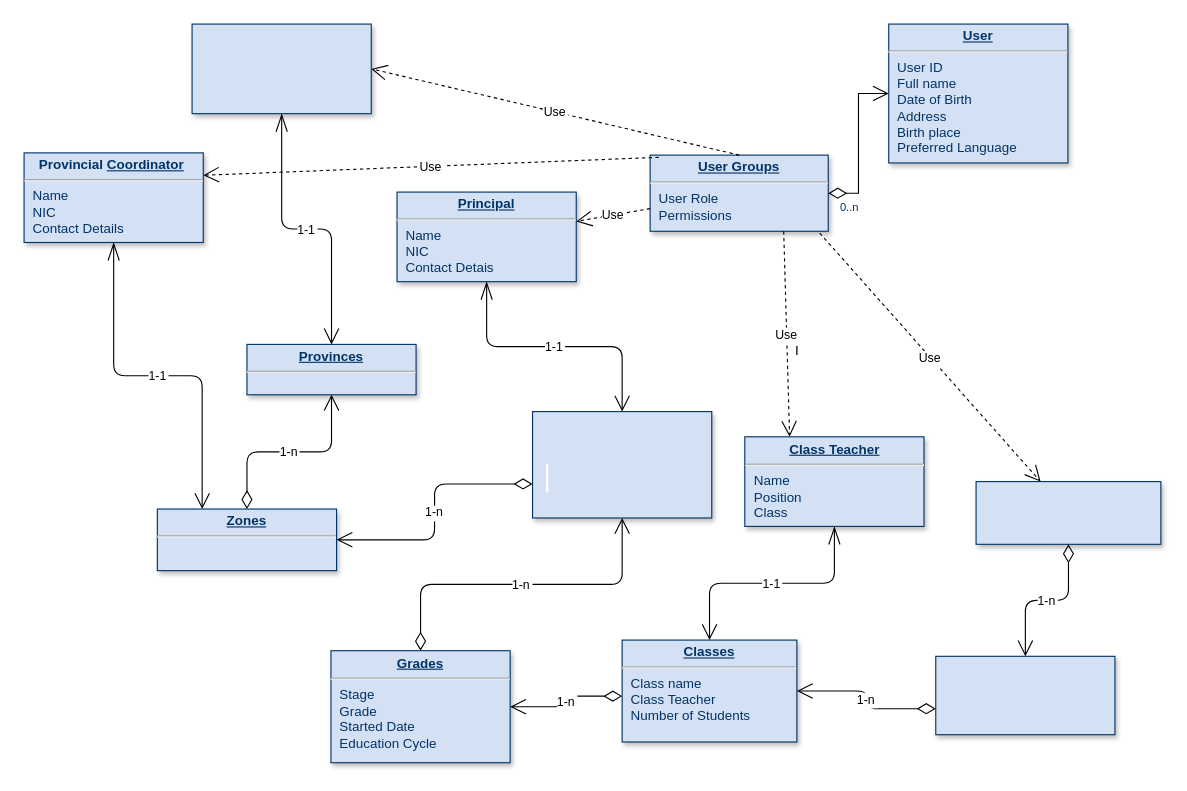
This 1187x791 diagram has some shape labels left out. Here are the shapes that lost their labels. From the top down, the centre of each, then its label:
At pixel 282 70: "Zonal Coordinator Name NIC Contact Details".
At pixel 622 466: "Schools Name Cences Location Contact".
At pixel 1069 514: "Guardians Relationship".
At pixel 1026 697: "Students Date of Enrollment Status".
